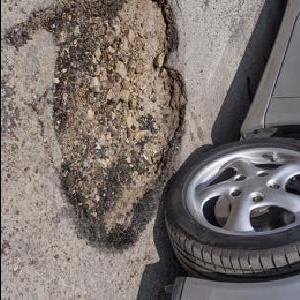pothole: (48, 0, 189, 254)
